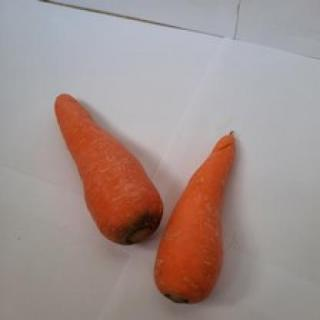Wortel: (54, 92, 164, 248), (154, 130, 243, 306)
